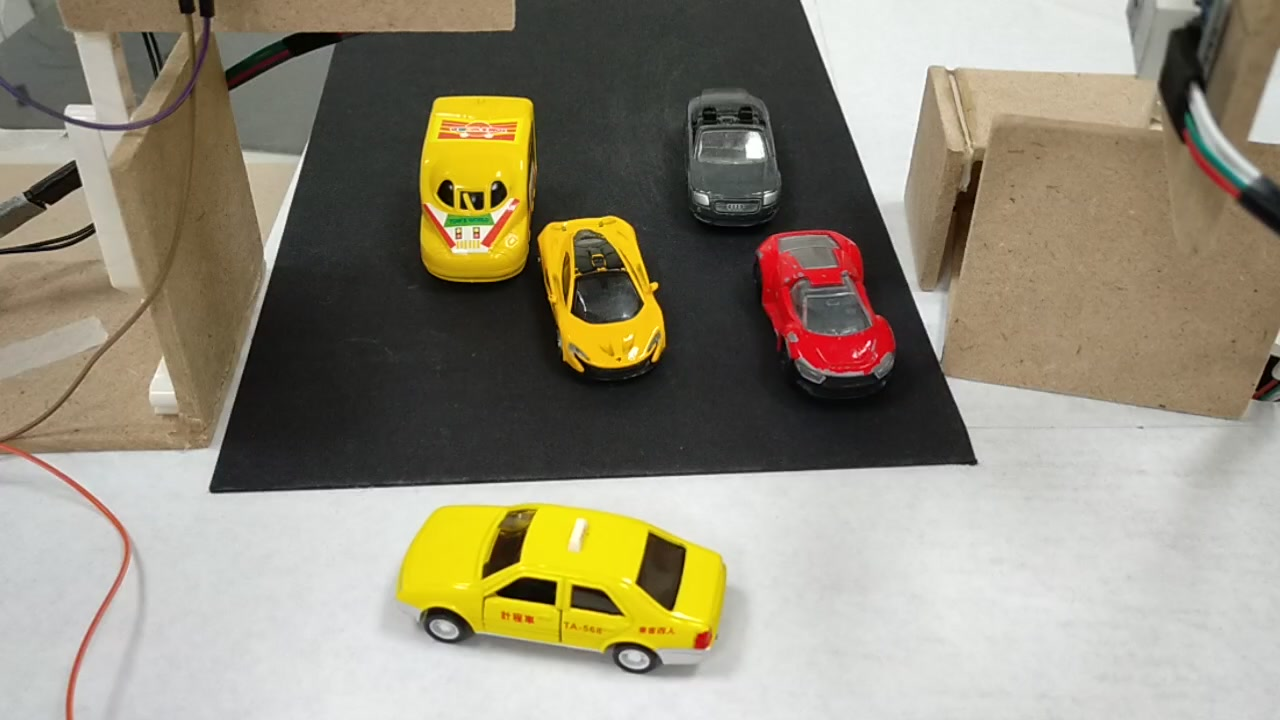car: (396, 507, 730, 687), (762, 236, 900, 403), (539, 220, 675, 385), (685, 94, 783, 230)
